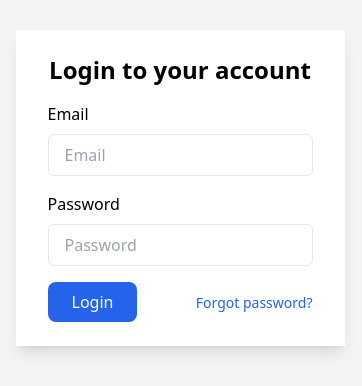
Test: Login Component › displays generic error message when response has no error field
This screenshot has width=362, height=386.
Step 1. Type "test@example.com" into the field labelled "Email" → point(180, 155), box [48, 134, 312, 176]
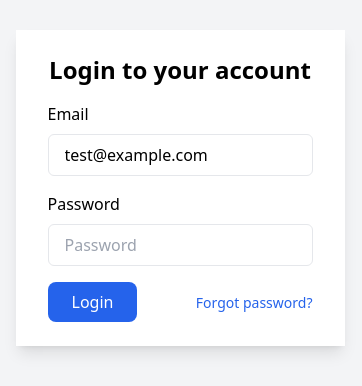
Step 2. Type "password" into the password field labelled "Password" → point(180, 245), box [48, 224, 312, 266]
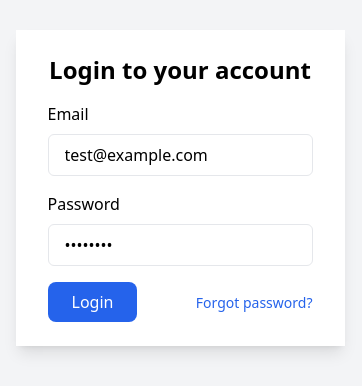
Step 3. Click the button "Login" → point(92, 302), box [48, 282, 137, 322]
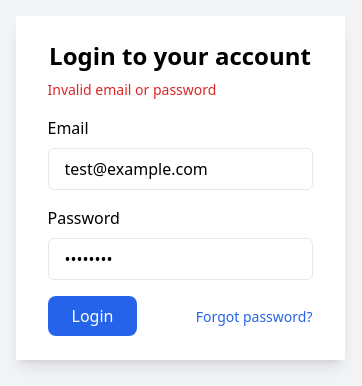
Now the text "Invalid email or password" is shown, box [48, 80, 216, 99]
